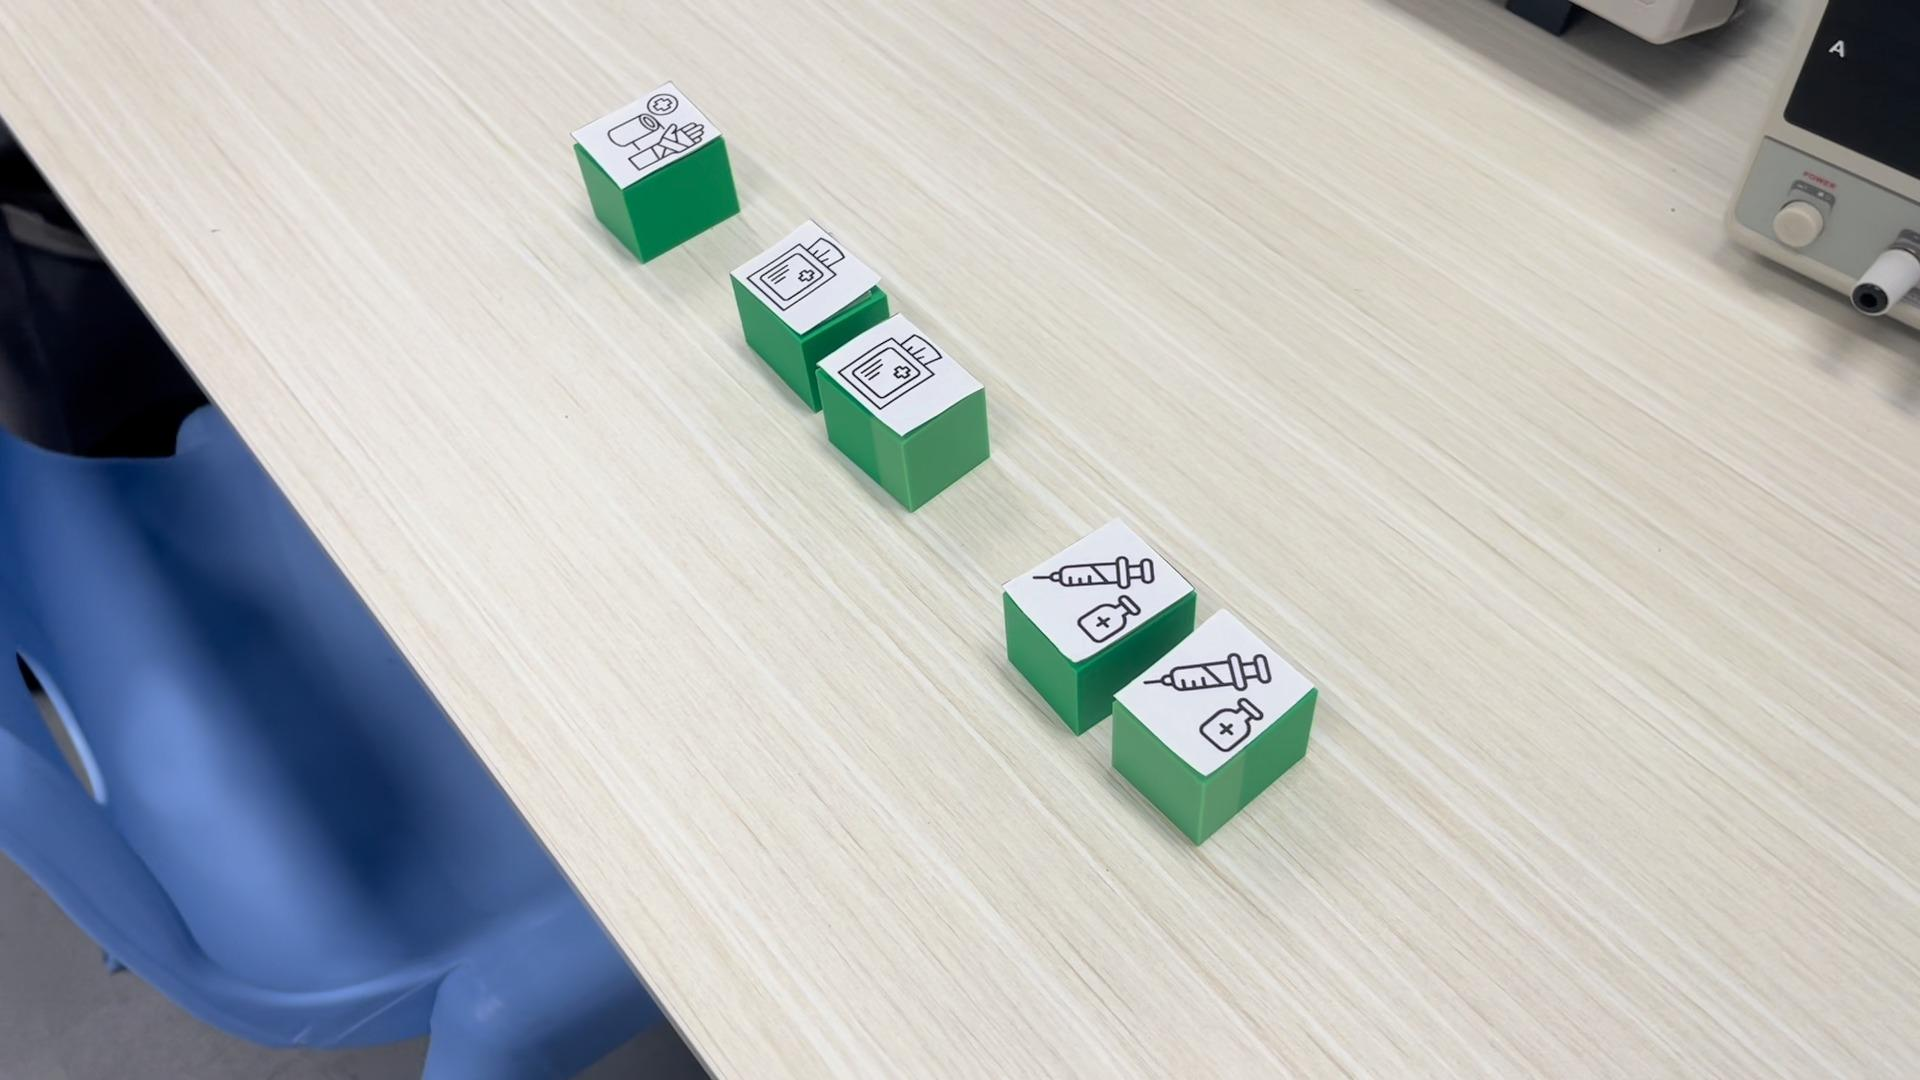Bandages: (568, 81, 740, 263)
Gauze: (813, 312, 990, 509), (724, 217, 891, 379)
antiseptic cream: (1108, 605, 1320, 845), (1002, 517, 1195, 666)
